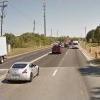Car: (6, 54, 40, 86)
